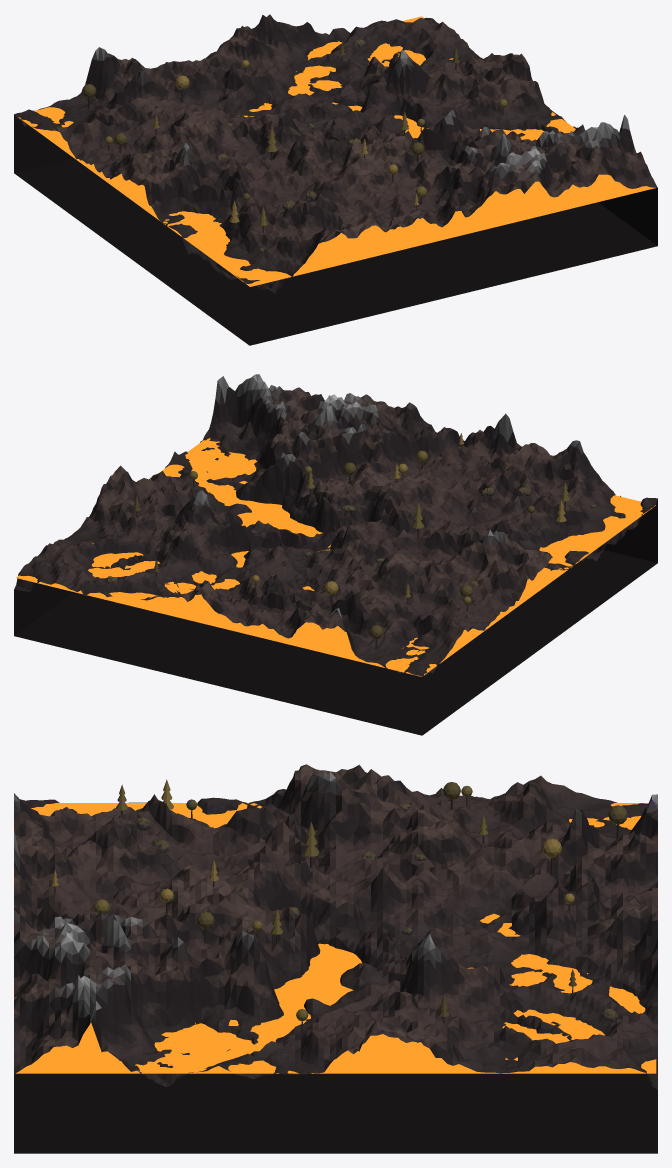
File: terrain_volcanic.glb
3 renders of one model, top to bottom at view 1: azimuth 30°, elevation 25°; view 2: azimuth 150°, elevation 25°; view 3: azimuth 270°, elevation 25°, orthographic. The views are drawn at different scales.
Visible parts, largest first — view 1: terrain; view 2: terrain; view 3: terrain.
Boxes of the visible parts, left/top/right/bottom form: terrain: left=14, top=14, right=657, bottom=345; terrain: left=14, top=374, right=657, bottom=735; terrain: left=14, top=764, right=657, bottom=1153.
Size of the model in its own units: 48 by 12.89 by 48.
